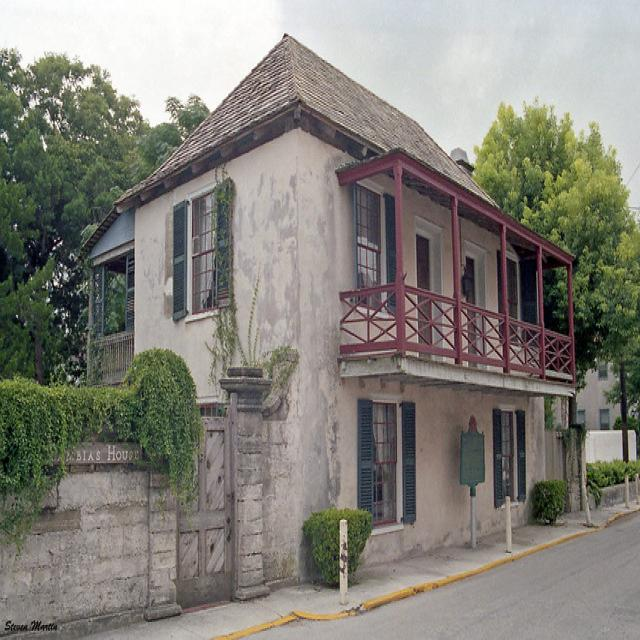Normal_building: (74, 29, 584, 575)
